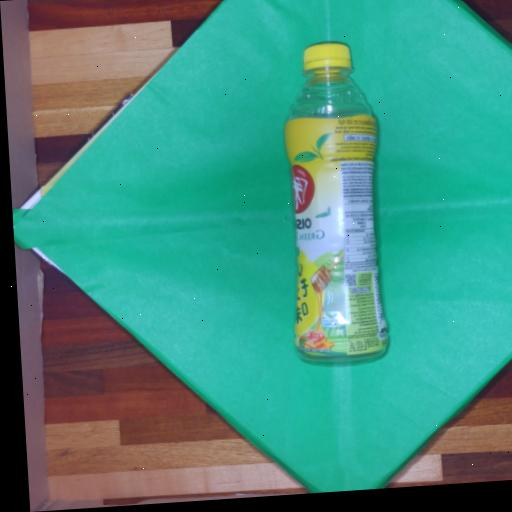bottle: (270, 27, 397, 378)
